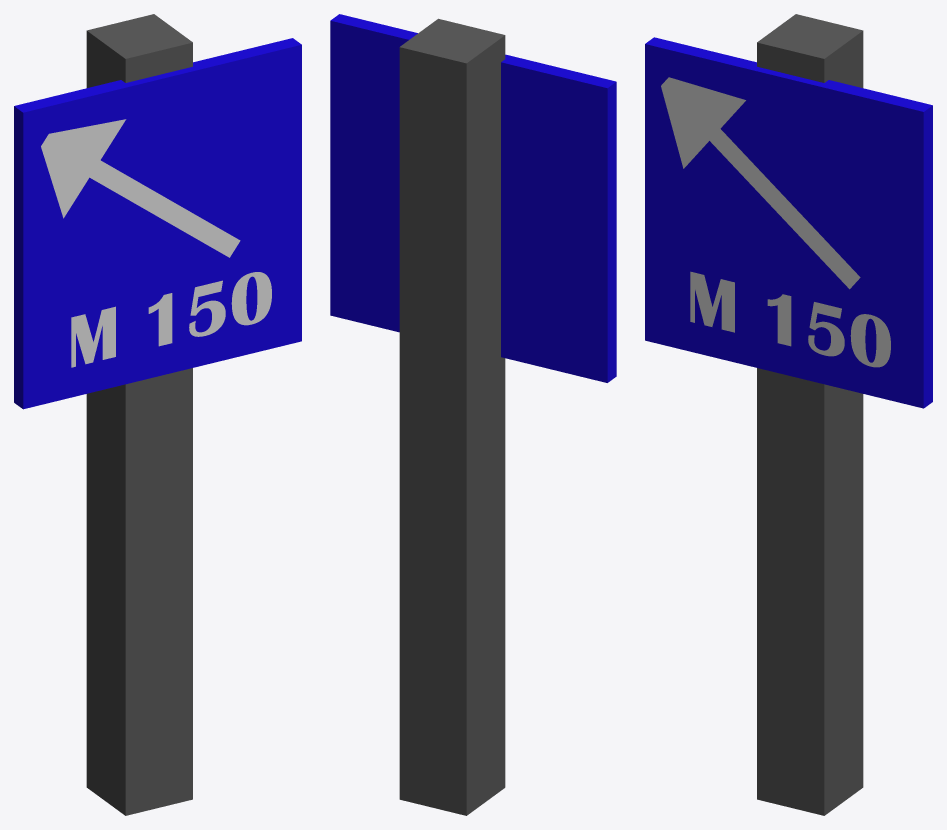
The model's file is JCT1ExitSignAM105.fbx.
3 renders of one model, left to right at view 1: azimuth 30°, elevation 25°; view 2: azimuth 150°, elevation 25°; view 3: azimuth 330°, elevation 25°, orthographic.
Visible parts, largest first — view 1: ExitSign, JCT1ExitSign, ExitArrow, JCT1ExitSignA; view 2: JCT1ExitSign, ExitSign; view 3: ExitSign, JCT1ExitSign, ExitArrow, JCT1ExitSignA.
Part boxes in pixels (x1,y1,x2,y2): ExitSign: [14, 38, 301, 409]; JCT1ExitSign: [86, 14, 192, 815]; ExitArrow: [41, 119, 240, 257]; JCT1ExitSignA: [71, 272, 271, 367]; JCT1ExitSign: [399, 18, 505, 815]; ExitSign: [330, 14, 616, 382]; ExitSign: [645, 37, 932, 408]; JCT1ExitSign: [757, 14, 863, 815]; ExitArrow: [661, 77, 860, 289]; JCT1ExitSignA: [690, 271, 890, 367].
Size of the model in its own units: 373 by 968 by 105.
